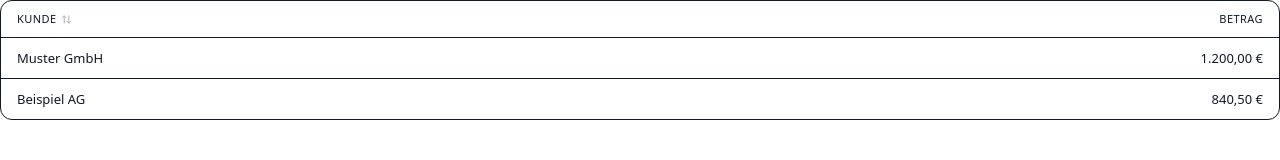
Scenario: DataTable › announces the current sort and flips direction on a second activation
Later steps or results of the test are not shown.
Click the button: (44, 19) [17,11,72,27]
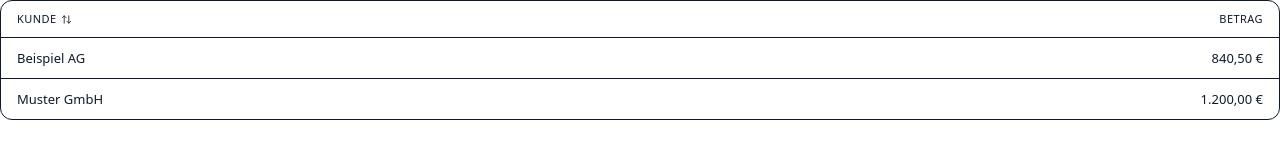
Now the column heading "Kunde" has attribute aria-sort="ascending", box [1,1,711,38]
